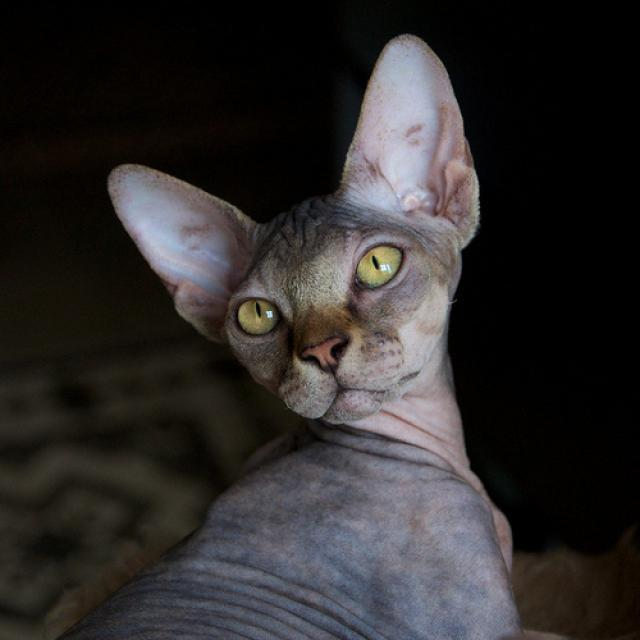Sphynx: (103, 28, 486, 427)
